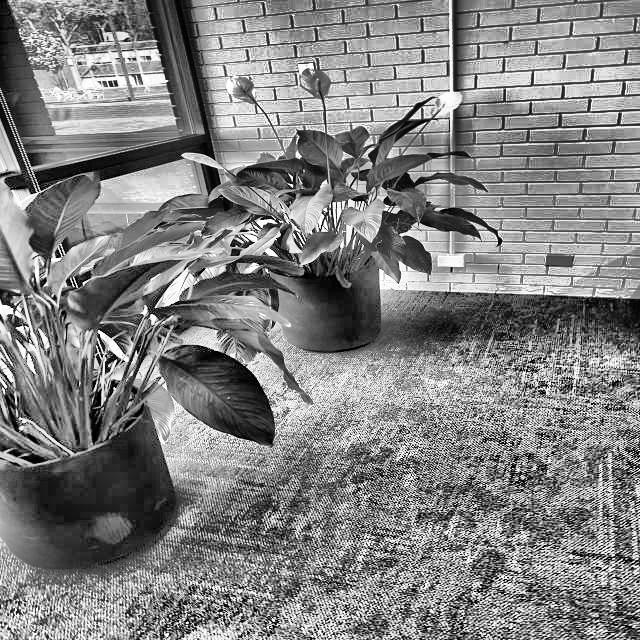plants: (16, 216, 239, 420), (236, 121, 404, 274)
